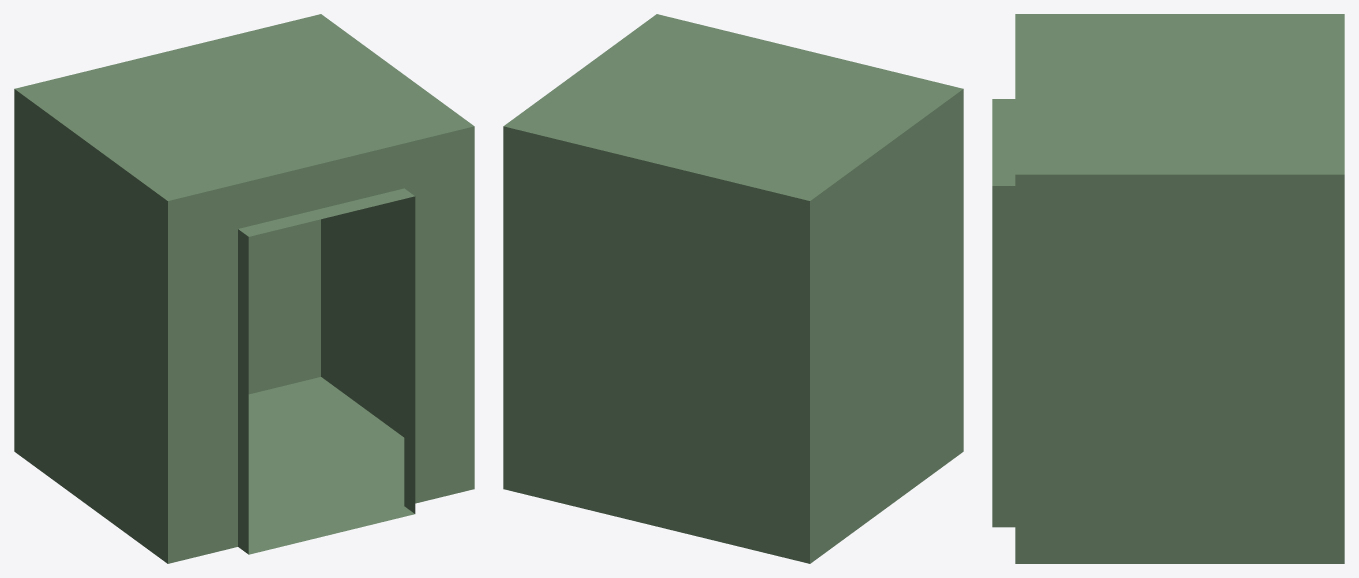
File: mesh_police_lift_inner.fbx
The picture shows the model from 3 angles, left to right: view 1: azimuth 30°, elevation 25°; view 2: azimuth 150°, elevation 25°; view 3: azimuth 270°, elevation 25°; orthographic projection. The views are drawn at different scales.
Parts seen in each view (by area): view 1: lift_inner; view 2: lift_inner; view 3: lift_inner.
Part boxes in pixels (x1=…): lift_inner: x1=14, y1=14, x2=474, y2=563; lift_inner: x1=503, y1=14, x2=963, y2=563; lift_inner: x1=992, y1=14, x2=1344, y2=563.
Bounding box in the file's own units: 266 × 301 × 247.
